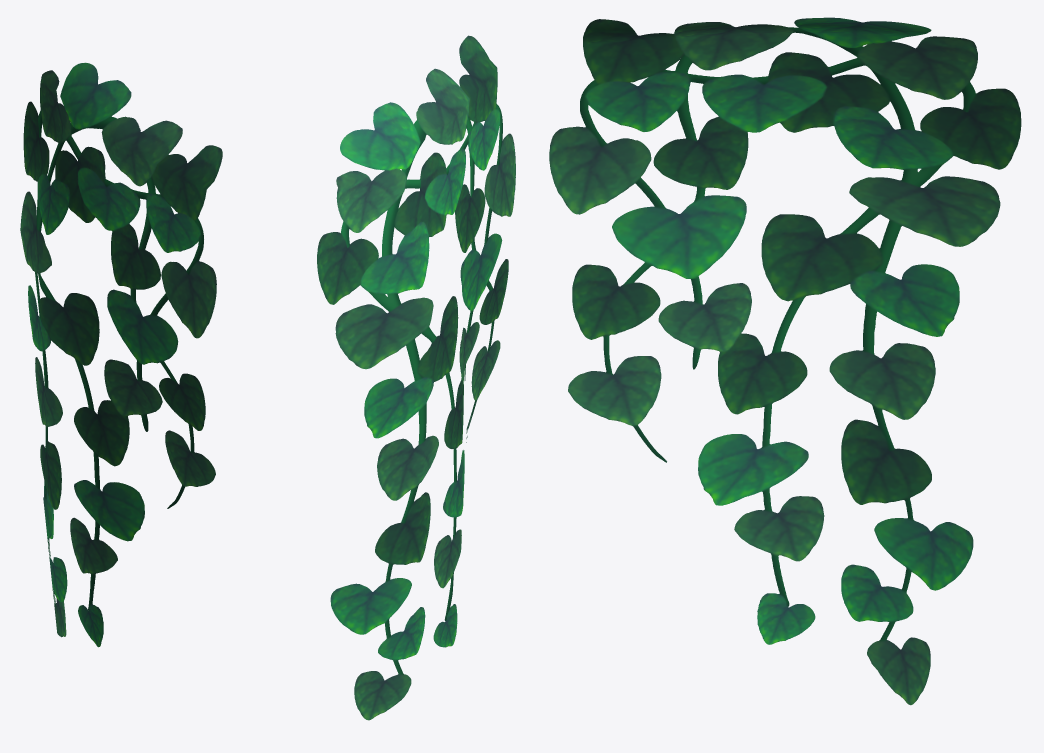
Rendered from Asset_Vigne_C_01.fbx.
The picture shows the model from 3 angles, left to right: view 1: azimuth 30°, elevation 25°; view 2: azimuth 150°, elevation 25°; view 3: azimuth 270°, elevation 25°; orthographic projection. The views are drawn at different scales.
Parts seen in each view (by area): view 1: Asset_Vigne_C_01; view 2: Asset_Vigne_C_01; view 3: Asset_Vigne_C_01.
Boxes of the visible parts, x1,y1,x2,y2 form: Asset_Vigne_C_01: [20, 62, 222, 647]; Asset_Vigne_C_01: [317, 35, 515, 720]; Asset_Vigne_C_01: [549, 17, 1021, 705].
Size of the model in its own units: 125 by 791 by 480.
